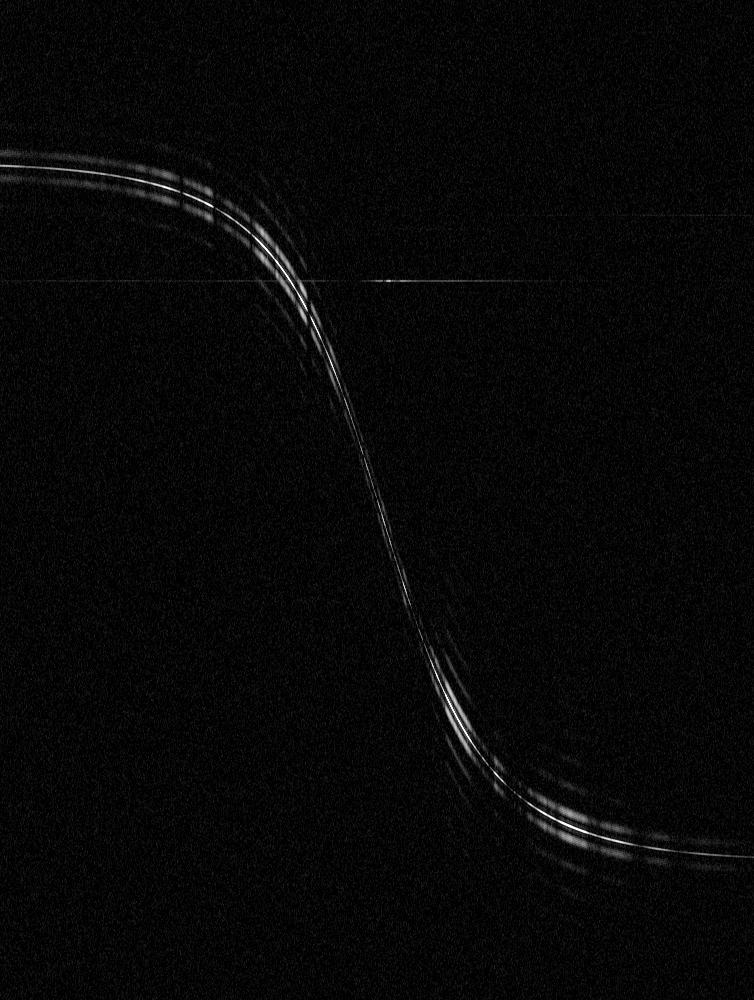signal: (0, 0, 753, 999)
